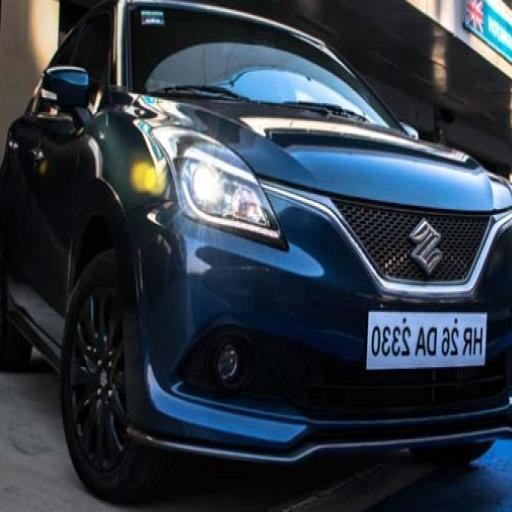License: (367, 308, 488, 367)
